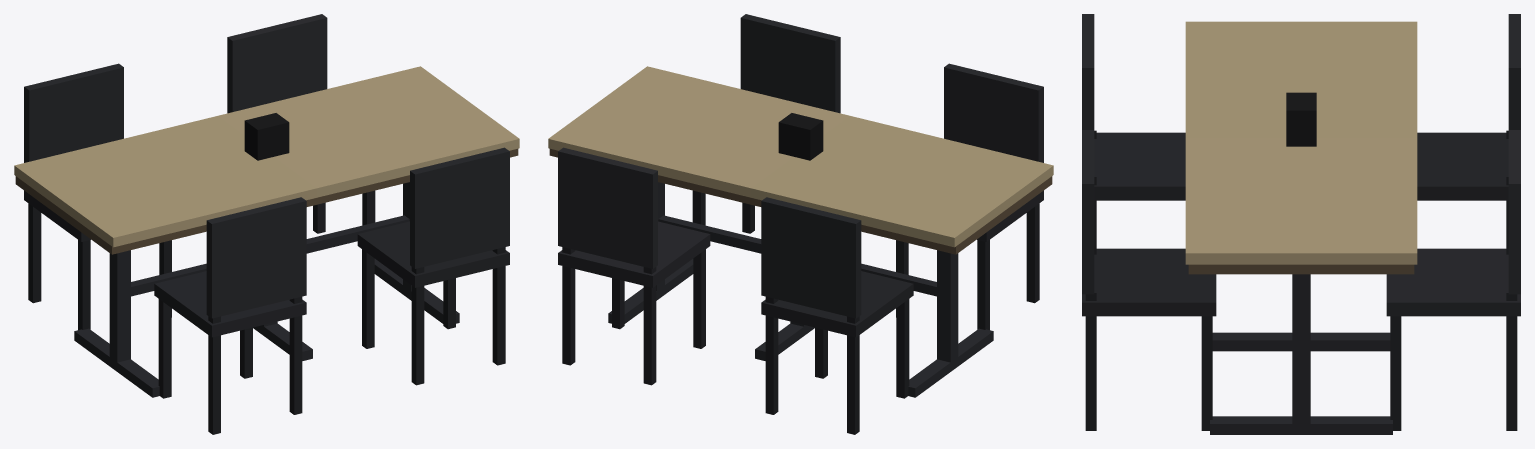
Rendered from table.mess_small.maple.glb.
3 views of the same model, side by side, from view 1: azimuth 30°, elevation 25°; view 2: azimuth 150°, elevation 25°; view 3: azimuth 270°, elevation 25° (orthographic). The views are drawn at different scales.
Parts seen in each view (by area): view 1: table_mess_small_maple; view 2: table_mess_small_maple; view 3: table_mess_small_maple.
Part boxes in pixels (x1,y1,x2,y2): table_mess_small_maple: [14, 14, 519, 434]; table_mess_small_maple: [548, 14, 1053, 434]; table_mess_small_maple: [1082, 14, 1520, 434].
Size of what is drawn, in the model's own units: 1.8 by 0.9 by 1.44.
